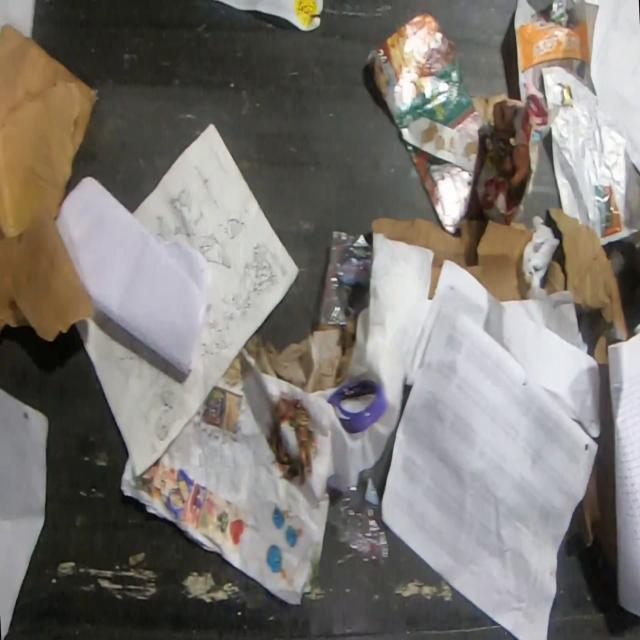cardboard: (363, 9, 525, 233), (541, 205, 638, 575), (0, 22, 100, 239), (369, 216, 536, 302), (0, 220, 96, 342), (342, 318, 356, 351)
rigid_plastic: (326, 377, 386, 432)
soft_plastic: (325, 464, 390, 565), (318, 228, 373, 326)
